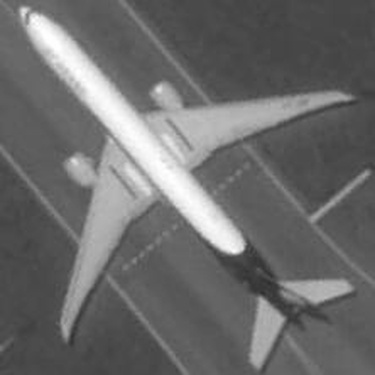airplane: (15, 1, 360, 369)
